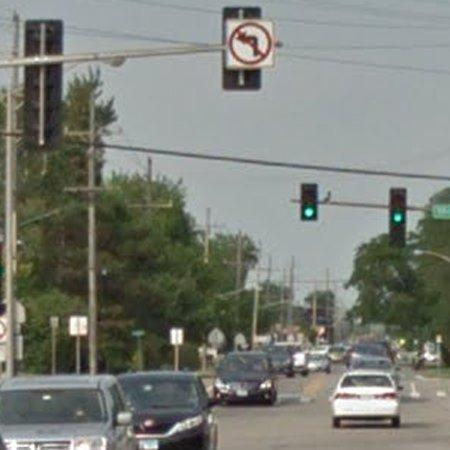traffic lights: (387, 187, 406, 250), (301, 182, 318, 222)
